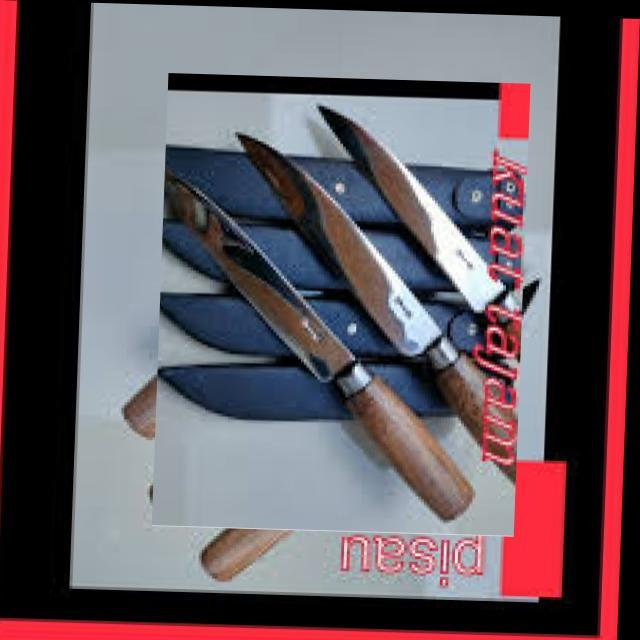knife: (160, 174, 477, 525), (234, 130, 516, 486), (316, 101, 522, 366)
